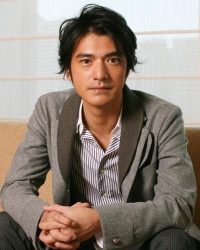male: (52, 1, 159, 121)
